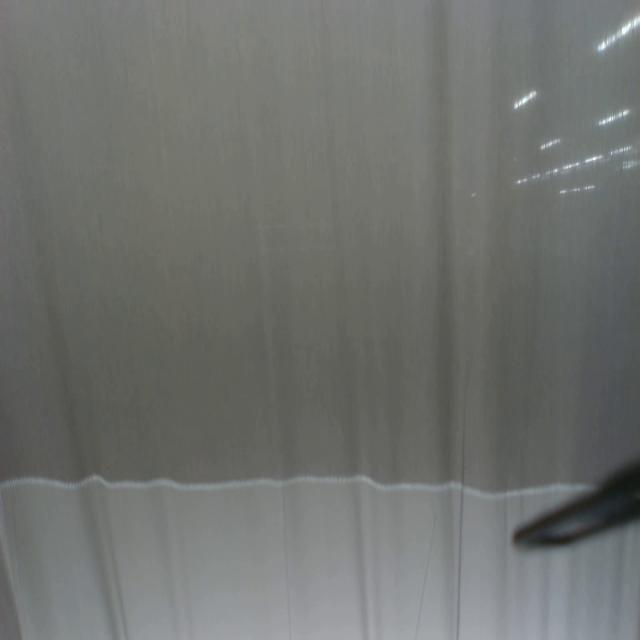crease: (453, 373, 475, 640), (414, 512, 439, 638)
